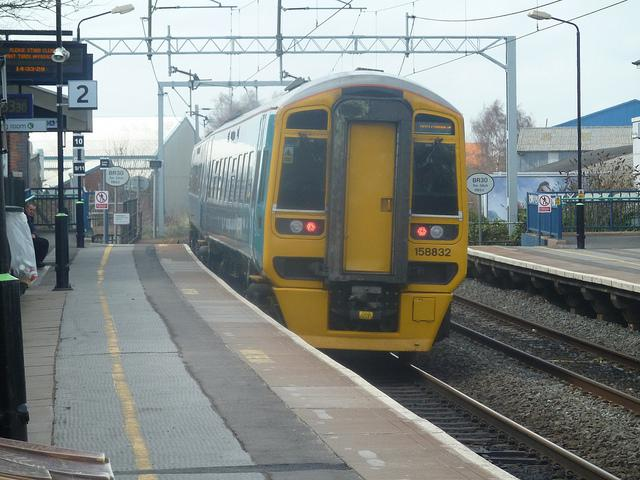Train: (187, 69, 471, 354)
